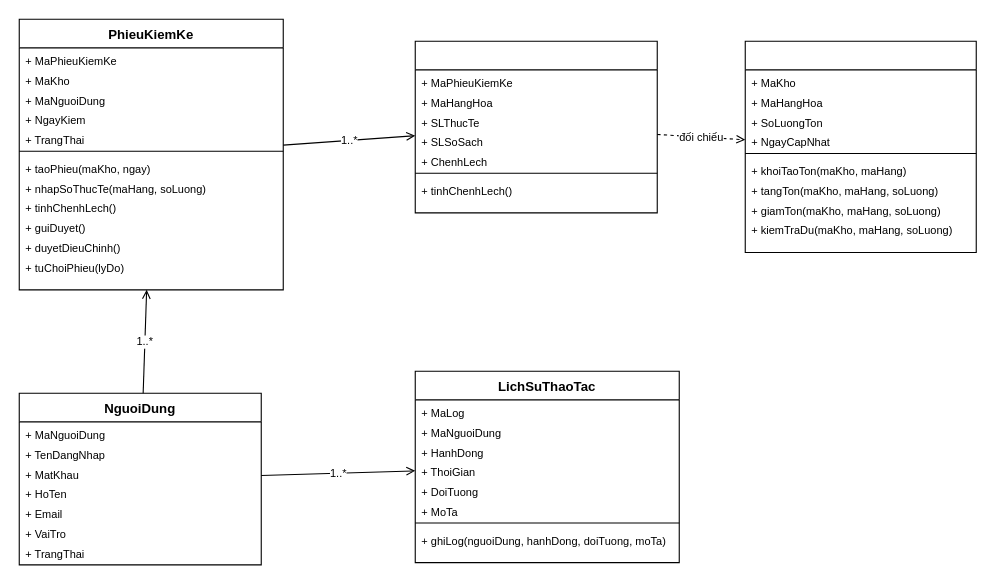
Image size: 996x584. Some labels were removed from this diagram. Here are the shapes that lost their labels. From the top down, the box of each, then its label:
(414, 40, 657, 213): ChiTietKiemKe
(744, 40, 976, 252): TonKho
